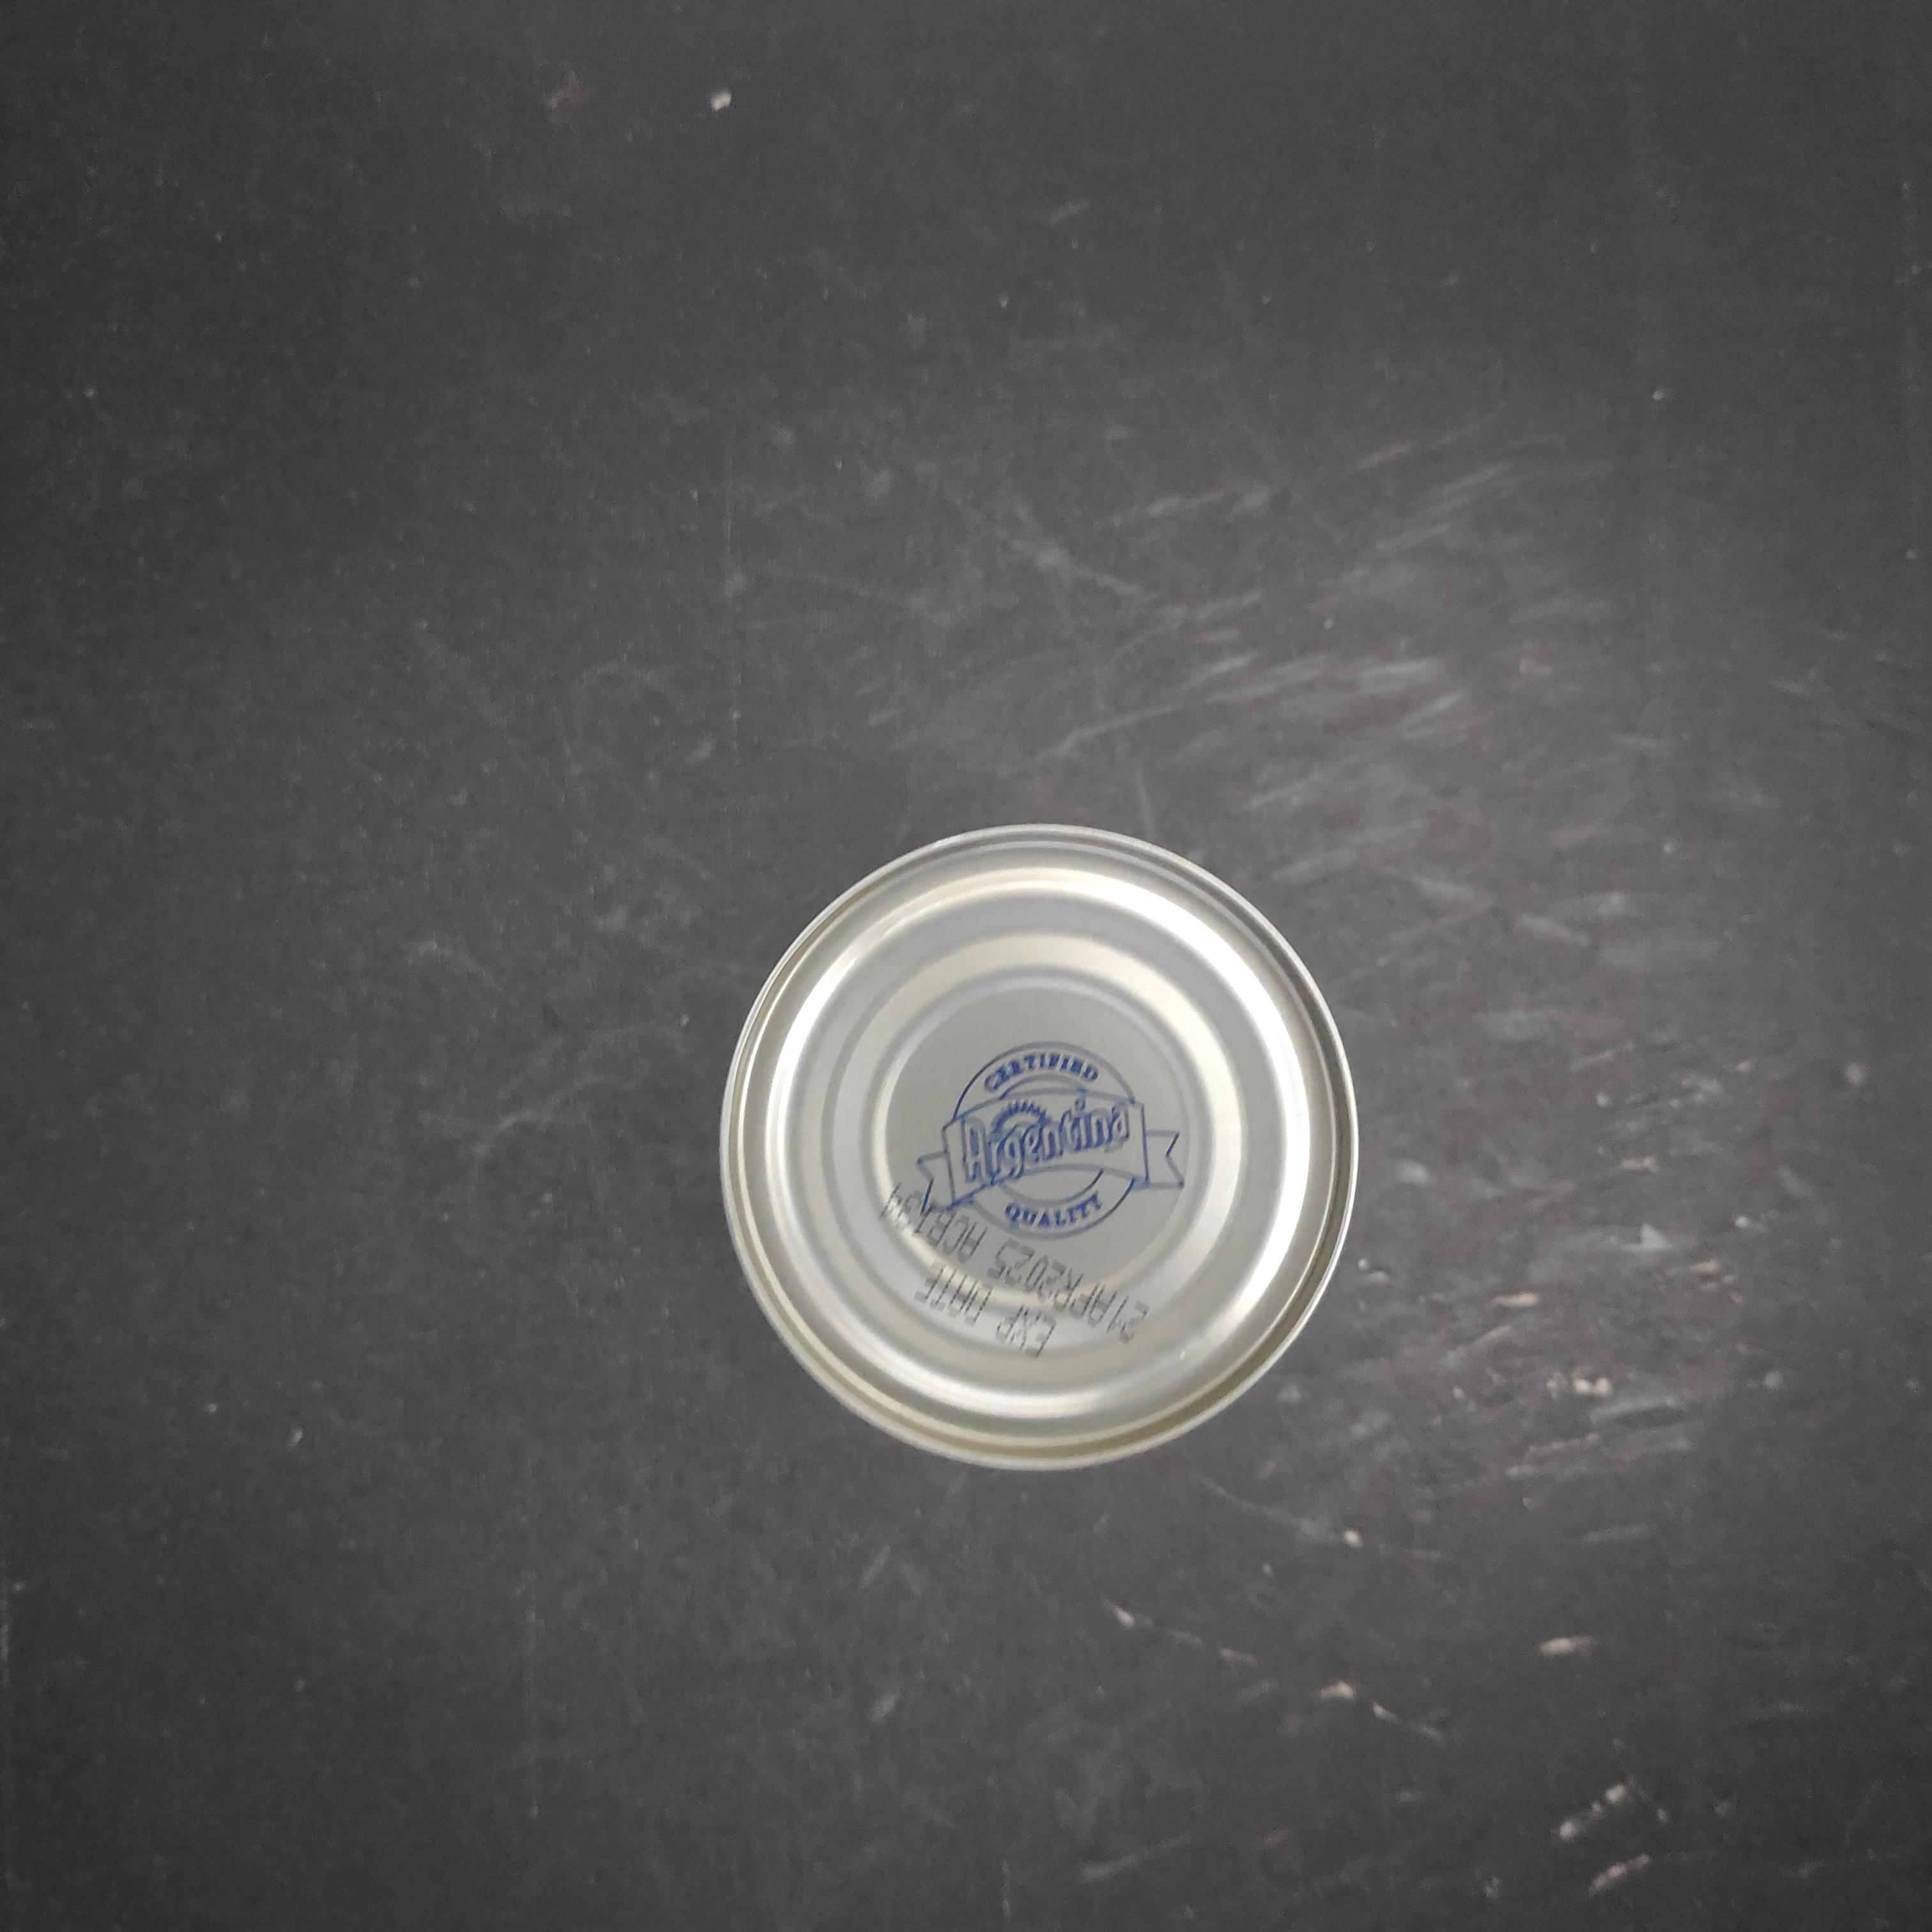No defect: (708, 812, 1373, 1484)
